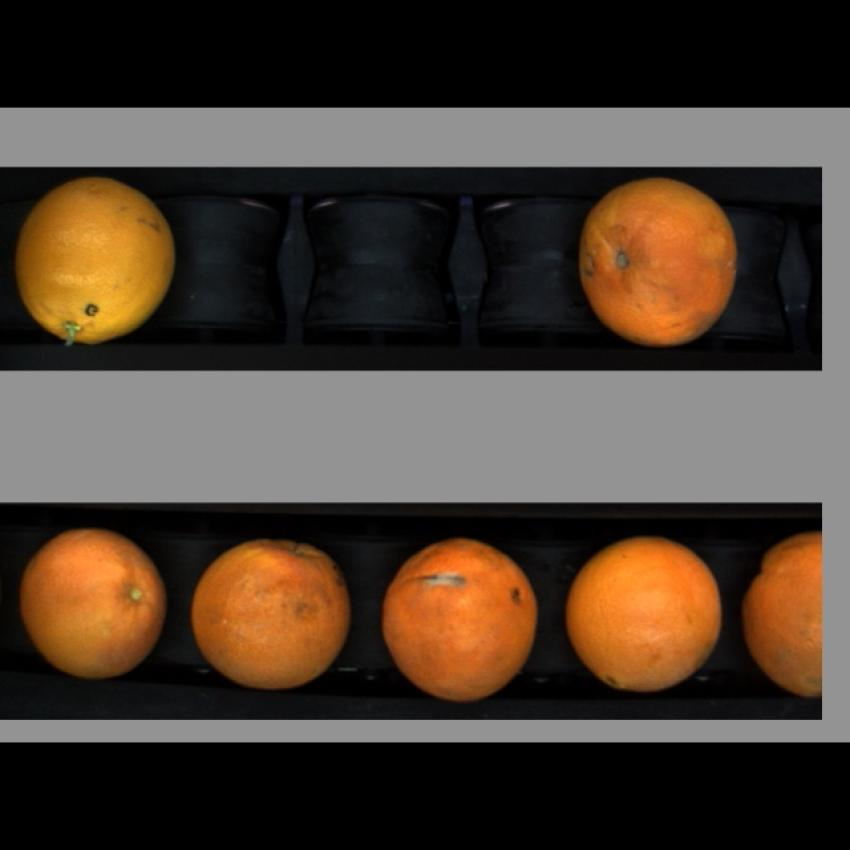Buen estado: (13, 181, 191, 347), (16, 528, 172, 690), (565, 538, 724, 690)
Mal estado: (570, 177, 748, 352), (188, 539, 352, 694), (383, 543, 537, 705), (738, 526, 823, 699)
